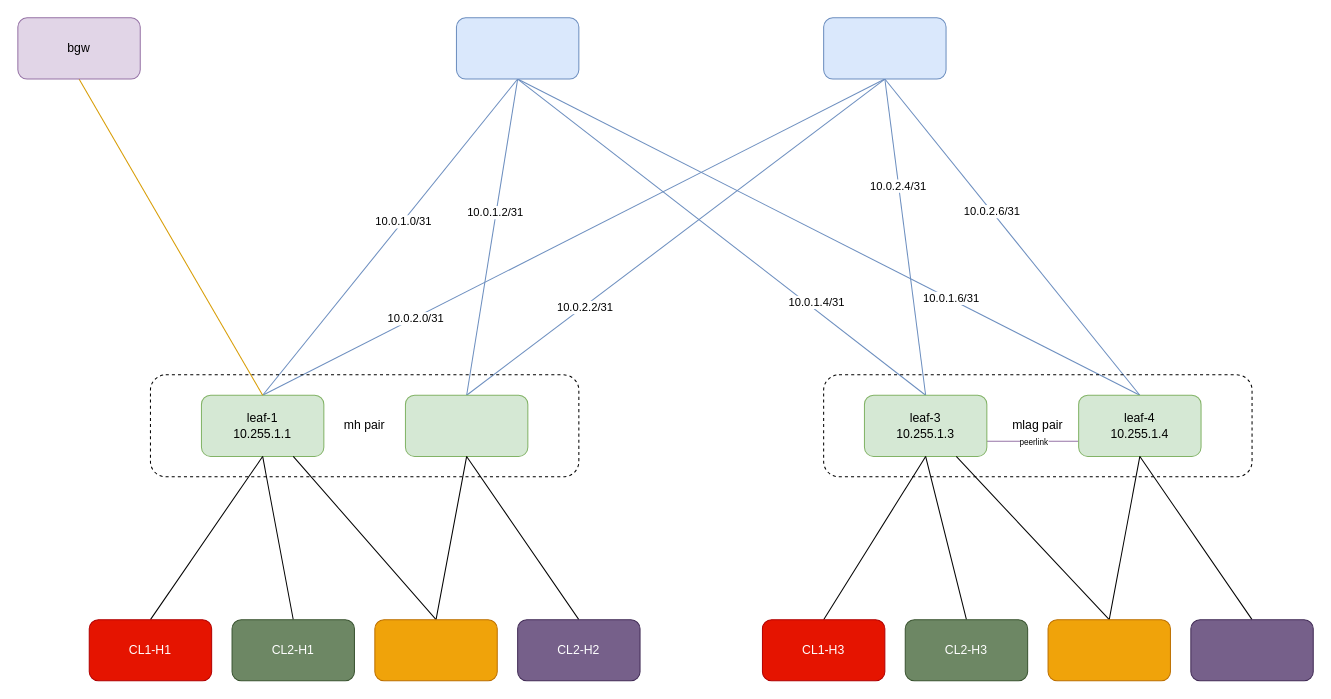
This 1331x699 diagram has some shape labels left out. Here are the shapes that lost their labels. From the top down, the centre of each, then its label:
At pixel 517 48: "spine-1 10.255.0.1".
At pixel 884 48: "spine-2 10.255.0.2".
At pixel 466 425: "leaf-2 10.255.1.2".
At pixel 435 650: "CL1-H2".
At pixel 1108 650: "CL1-4".
At pixel 1251 650: "CL2-H4".
